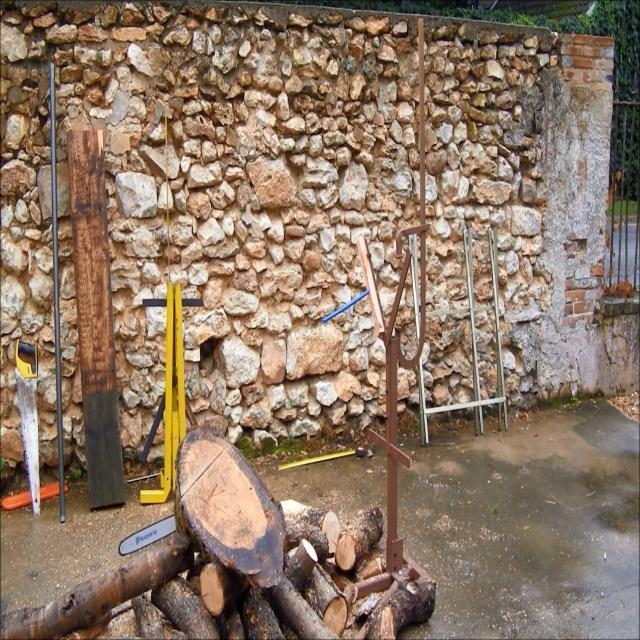Chainsaw: (120, 456, 190, 566)
